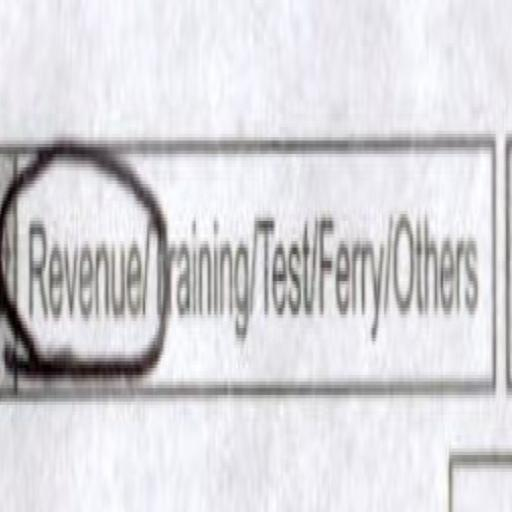check: (24, 52, 150, 454)
